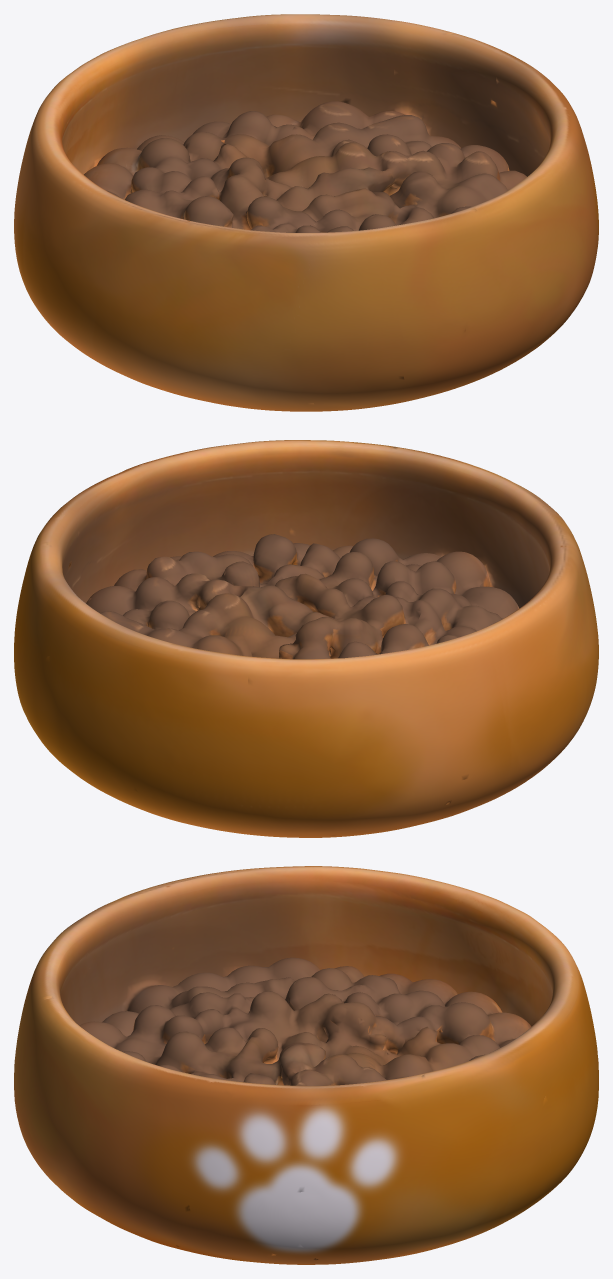
Rendered from Bowl1.fbx.
3 views of the same model, one above another, from view 1: azimuth 30°, elevation 25°; view 2: azimuth 150°, elevation 25°; view 3: azimuth 270°, elevation 25° (orthographic).
Parts seen in each view (by area): view 1: Orange; view 2: Orange; view 3: Orange.
Part boxes in pixels (x1,y1,x2,y2): Orange: (14, 14, 598, 411); Orange: (14, 440, 598, 837); Orange: (14, 866, 598, 1264).
Size of the model in its own units: 200 by 80.41 by 200.
Materials: 1 (1 with a texture image).
